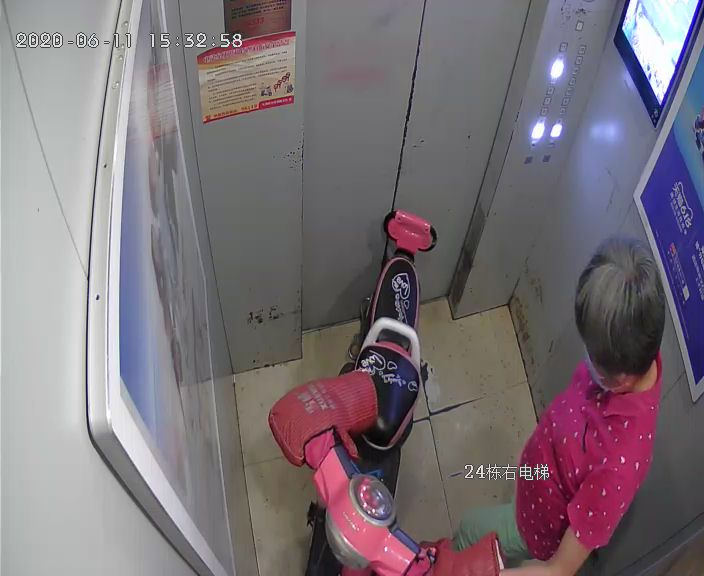Electric-bicycle: (308, 211, 437, 573)
